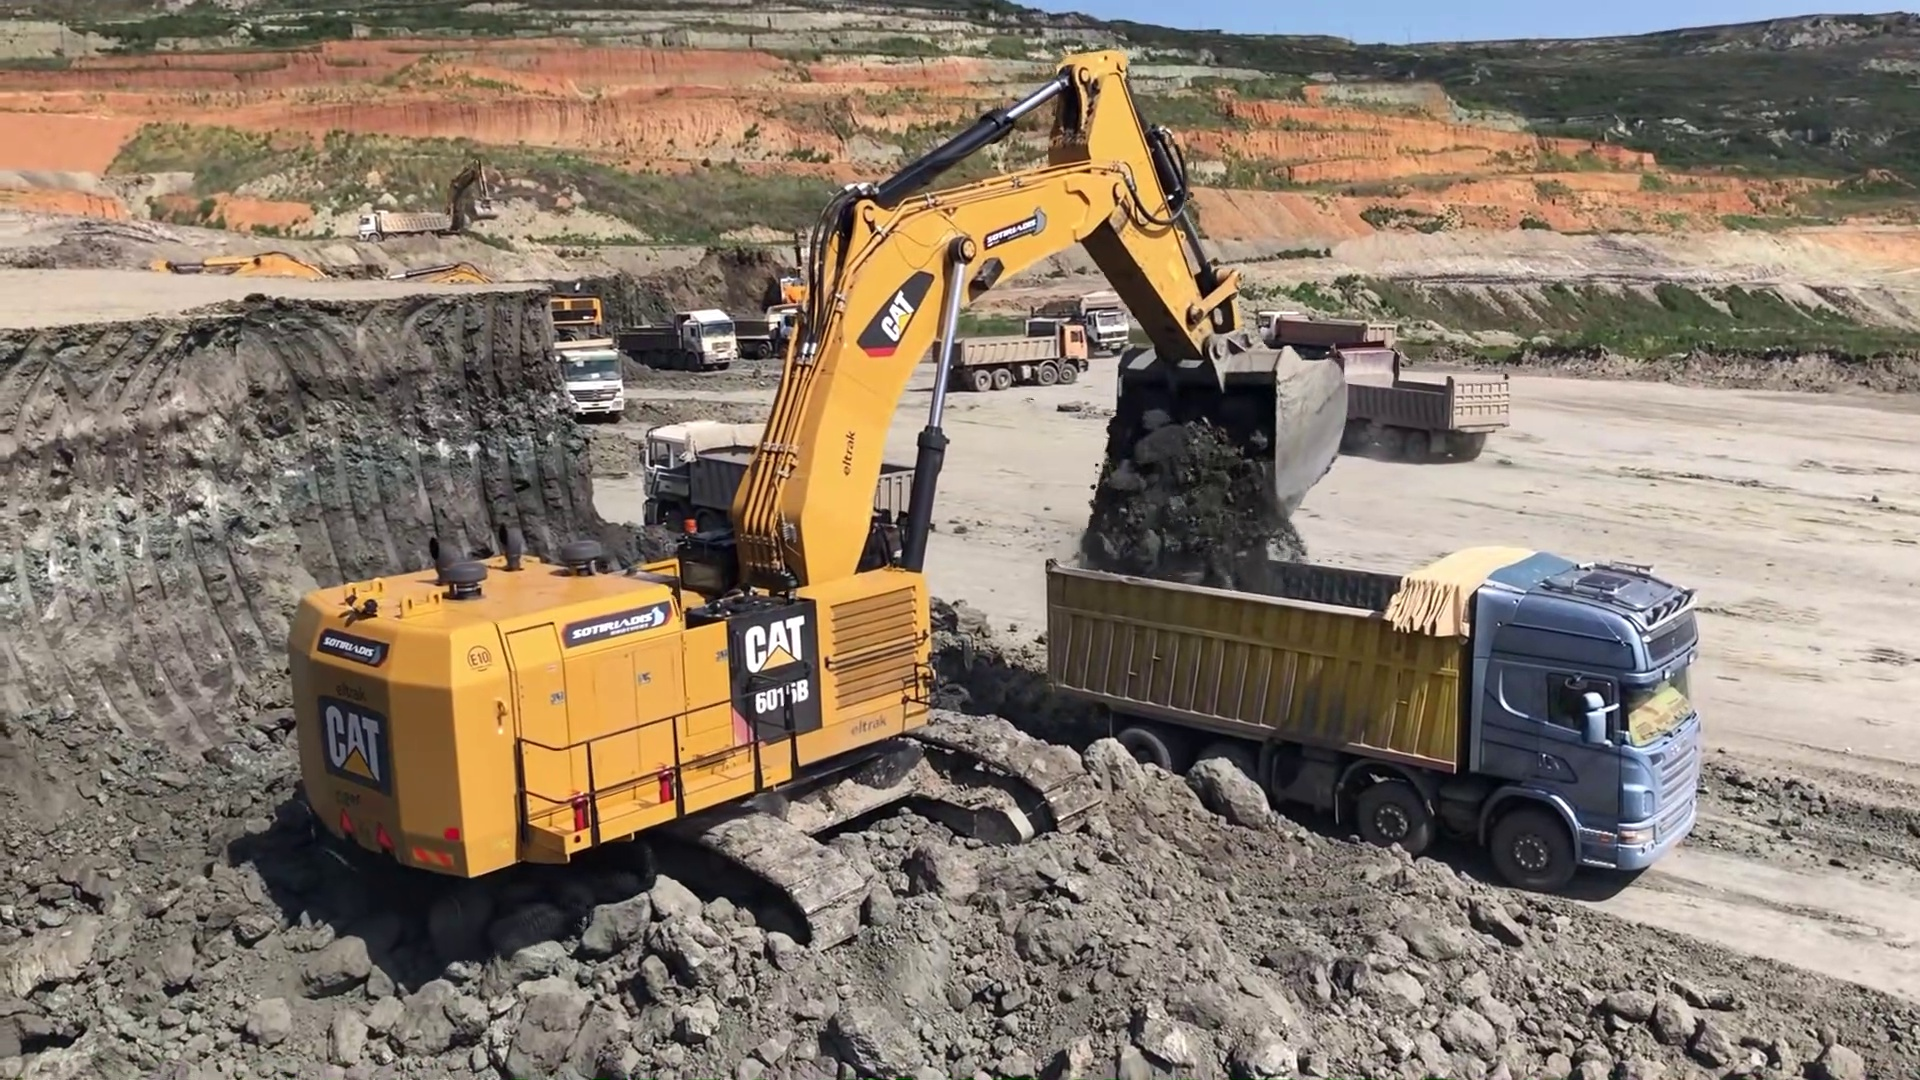excavator: (278, 42, 1338, 952), (394, 256, 603, 347), (152, 233, 342, 320), (452, 160, 518, 237)
truck: (1046, 533, 1701, 902), (1320, 345, 1516, 465), (938, 320, 1085, 397), (620, 307, 738, 368), (1261, 305, 1400, 355), (553, 328, 624, 414), (1034, 295, 1130, 345), (351, 200, 454, 233)
